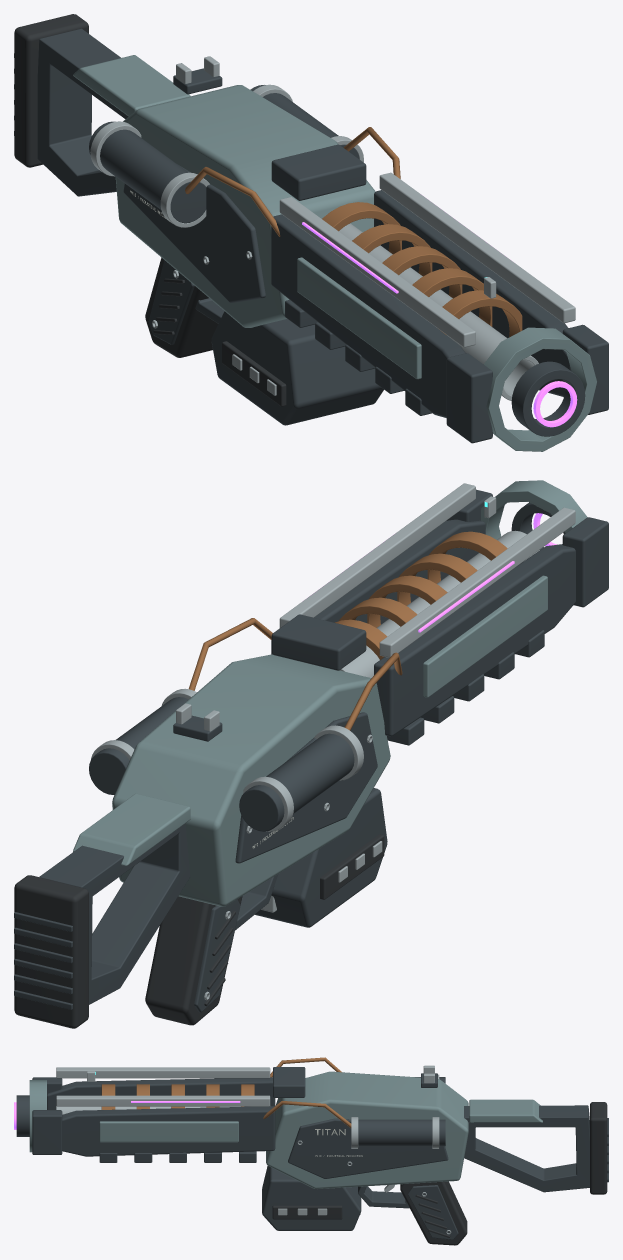
File: HF_TITAN.fbx
3 renders of one model, top to bottom at view 1: azimuth 30°, elevation 25°; view 2: azimuth 150°, elevation 25°; view 3: azimuth 270°, elevation 25°, orthographic. The views are drawn at different scales.
Visible parts, largest first — view 1: Body mesh.002, Magazine mesh.001, Bolt mesh.001; view 2: Body mesh.002, Magazine mesh.001, Bolt mesh.001; view 3: Body mesh.002, Magazine mesh.001, Bolt mesh.001.
Boxes of the visible parts, x1=… form: Body mesh.002: x1=14, y1=14, x2=608, y2=451; Magazine mesh.001: x1=211, y1=311, x2=383, y2=425; Bolt mesh.001: x1=271, y1=144, x2=366, y2=200; Body mesh.002: x1=14, y1=480, x2=608, y2=1028; Magazine mesh.001: x1=255, y1=788, x2=387, y2=927; Bolt mesh.001: x1=271, y1=614, x2=366, y2=670; Body mesh.002: x1=14, y1=1057, x2=608, y2=1245; Magazine mesh.001: x1=262, y1=1166, x2=361, y2=1230; Bolt mesh.001: x1=273, y1=1067, x2=305, y2=1097.
Bounding box in the file's own units: 26.6 × 37.71 × 120.
